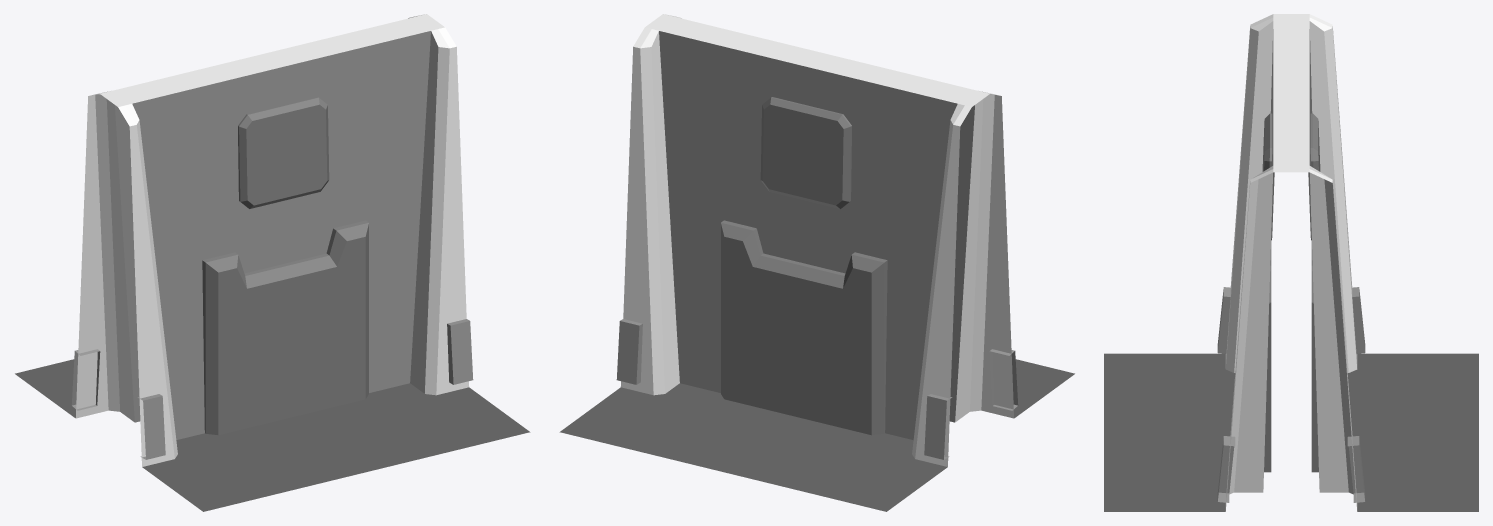
The model's file is I_Wall_Straight_1.fbx.
3 renders of one model, left to right at view 1: azimuth 30°, elevation 25°; view 2: azimuth 150°, elevation 25°; view 3: azimuth 270°, elevation 25°, orthographic.
Visible parts, largest first — view 1: I_Wall_Straight_1; view 2: I_Wall_Straight_1; view 3: I_Wall_Straight_1.
Boxes of the visible parts, x1=… form: I_Wall_Straight_1: x1=15, y1=14, x2=530, y2=511; I_Wall_Straight_1: x1=559, y1=14, x2=1074, y2=511; I_Wall_Straight_1: x1=1104, y1=14, x2=1478, y2=511.
Bounding box in the file's own units: 200 × 200 × 200.
